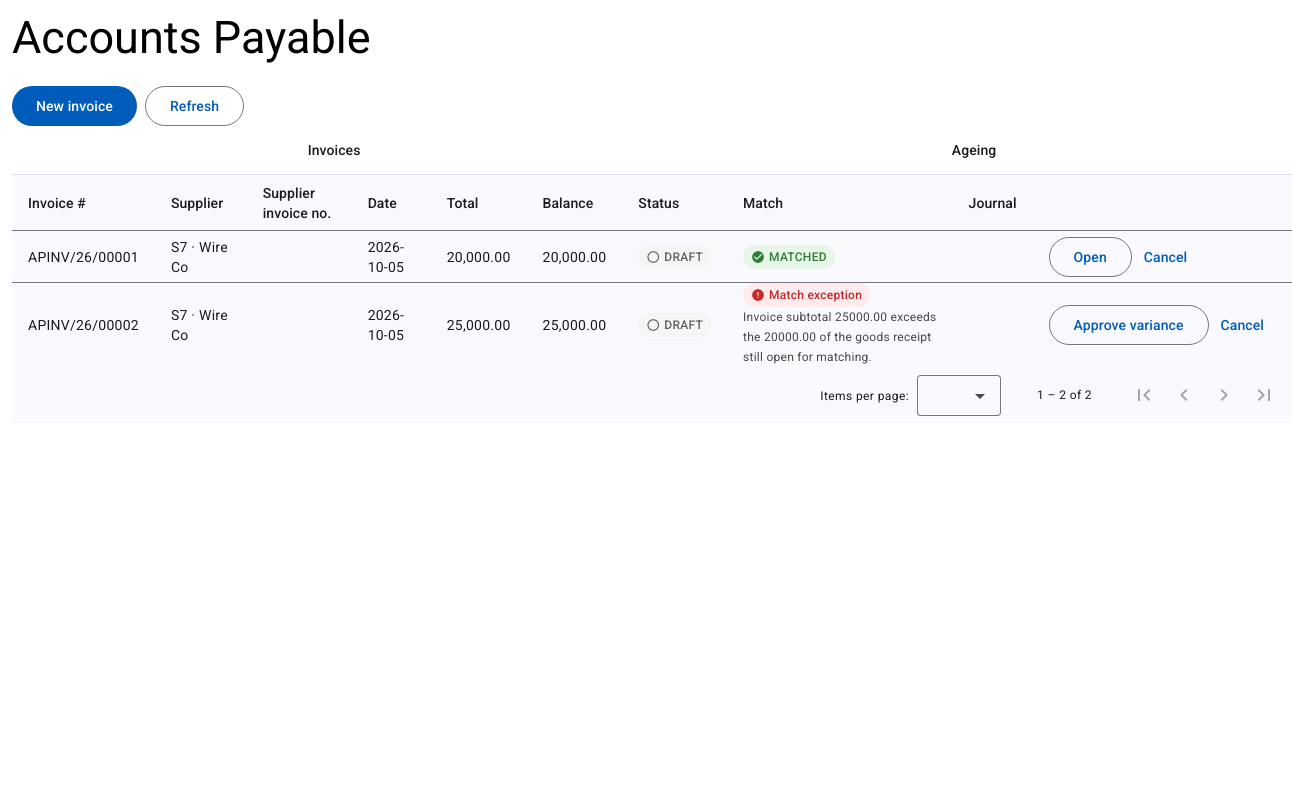
Test: ApListComponent three-way match › requires a reason, then posts it to the real override endpoint and reloads
The width and height of the screenshot is (1292, 812).
Click the button "Approve variance": click(1129, 326) left=1049, top=306, right=1208, bottom=346
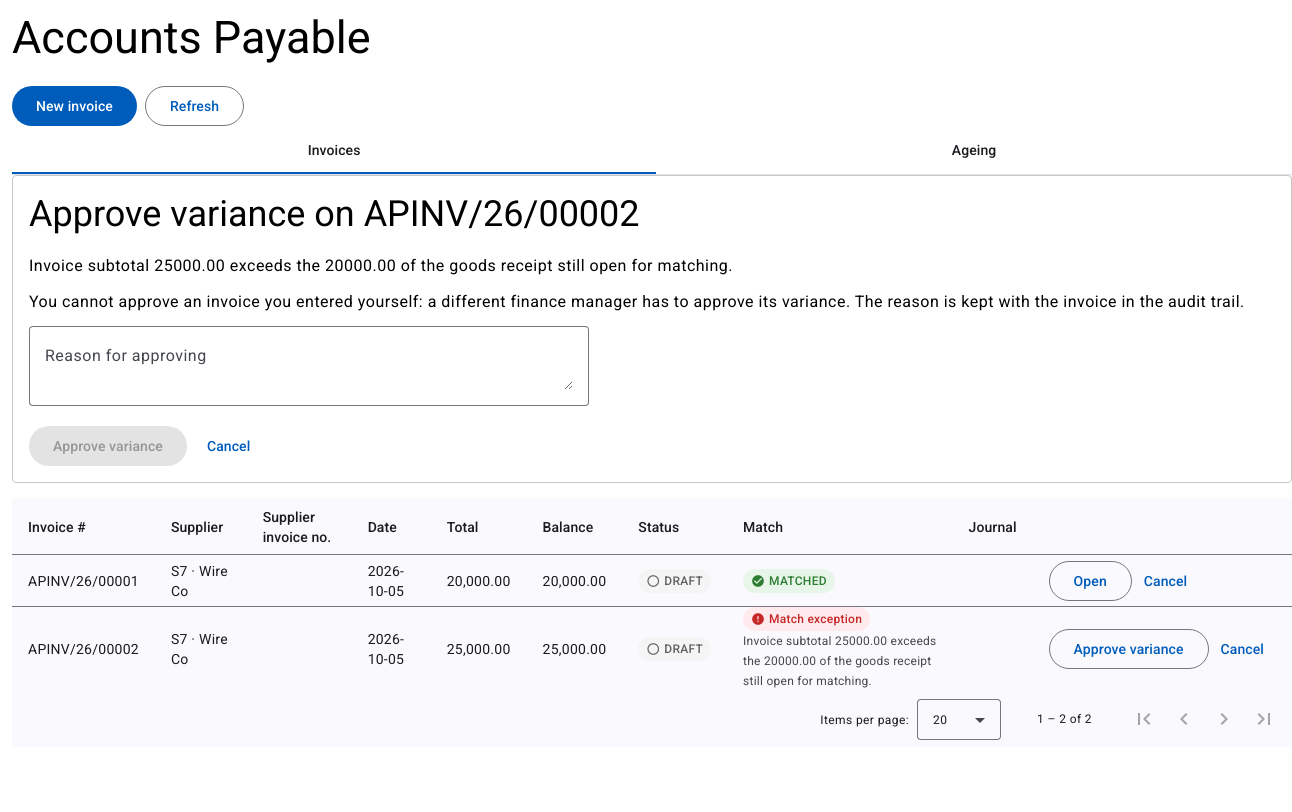
Now the button "Approve variance" is disabled, box left=29, top=426, right=187, bottom=466
